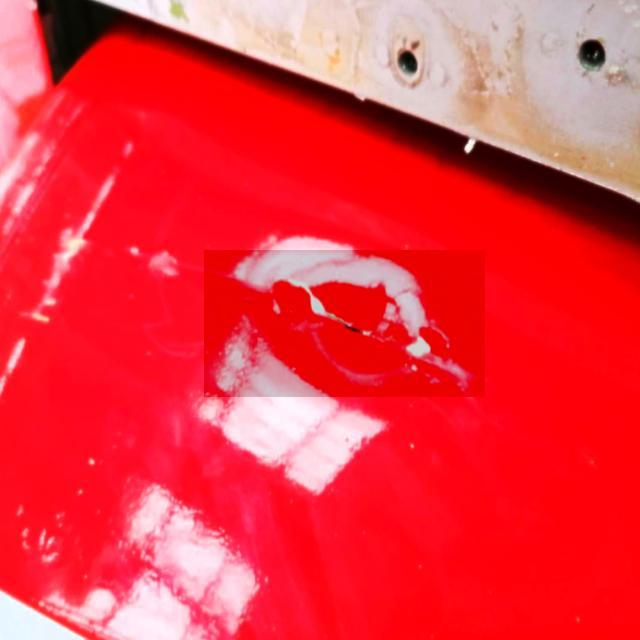crack: (205, 251, 486, 398)
